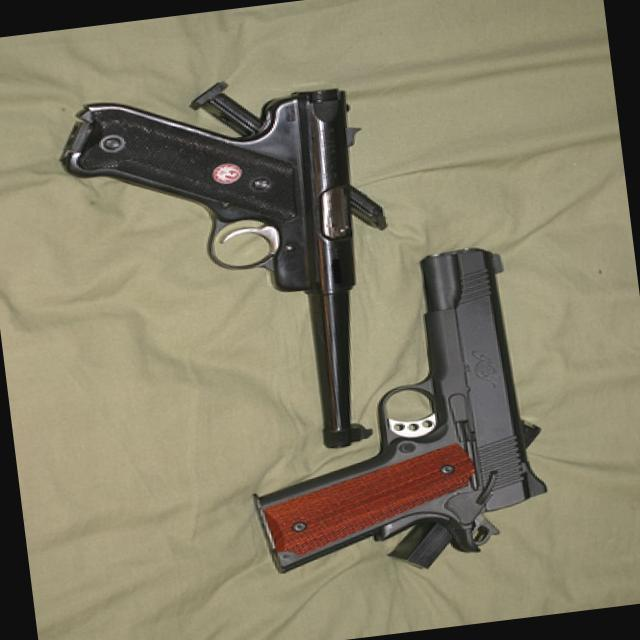handgun: (59, 64, 384, 479), (222, 233, 571, 576)
